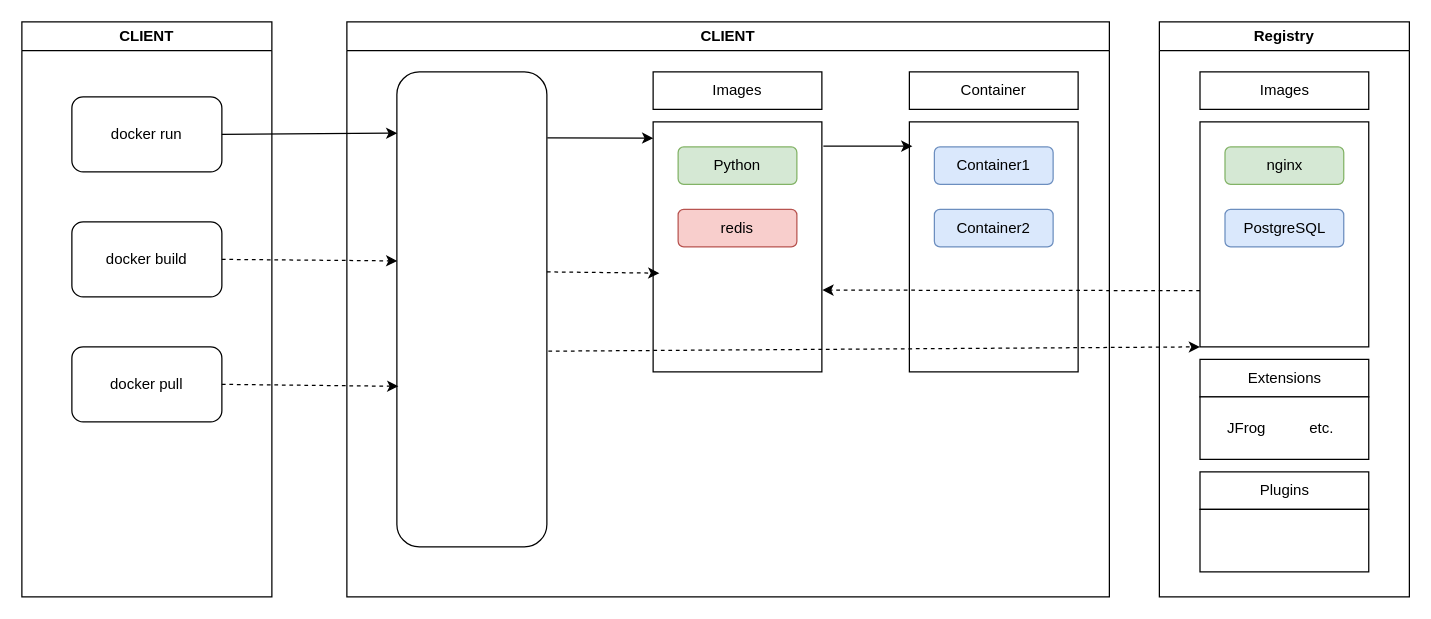
This 1431x619 diagram has some shape labels left out. Here are the shapes that lost their labels. From the top down, the box of each, then its label:
(396, 71, 547, 547): Docker deamon
(1199, 508, 1369, 572): Docker
